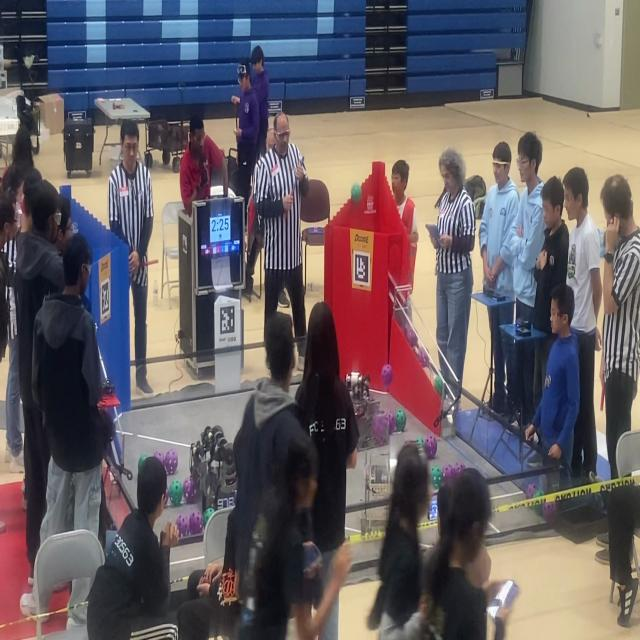artifact_green: (189, 511, 203, 535), (170, 480, 182, 506), (432, 466, 443, 490), (396, 409, 406, 432), (203, 507, 215, 526), (138, 454, 148, 473), (434, 375, 443, 395), (351, 184, 361, 202), (534, 500, 543, 516), (533, 489, 544, 498), (416, 437, 424, 449)
artifact_purple: (372, 413, 388, 447), (189, 512, 204, 535), (183, 478, 196, 503), (164, 450, 177, 474), (176, 515, 190, 537), (534, 489, 545, 516), (425, 435, 437, 459), (381, 364, 393, 388), (405, 325, 417, 348), (543, 501, 556, 521), (418, 347, 430, 367), (443, 464, 454, 482), (525, 483, 537, 499), (387, 412, 395, 434), (454, 462, 465, 477), (154, 451, 164, 464), (165, 486, 169, 505)
